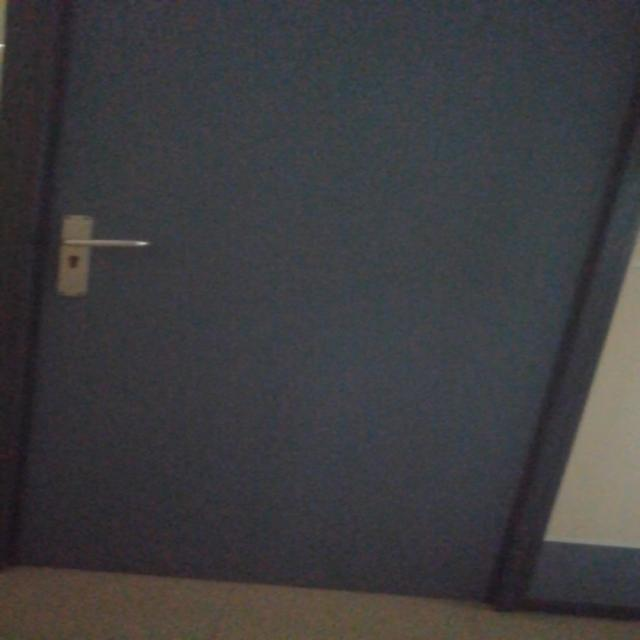door_handle: (57, 236, 154, 251)
